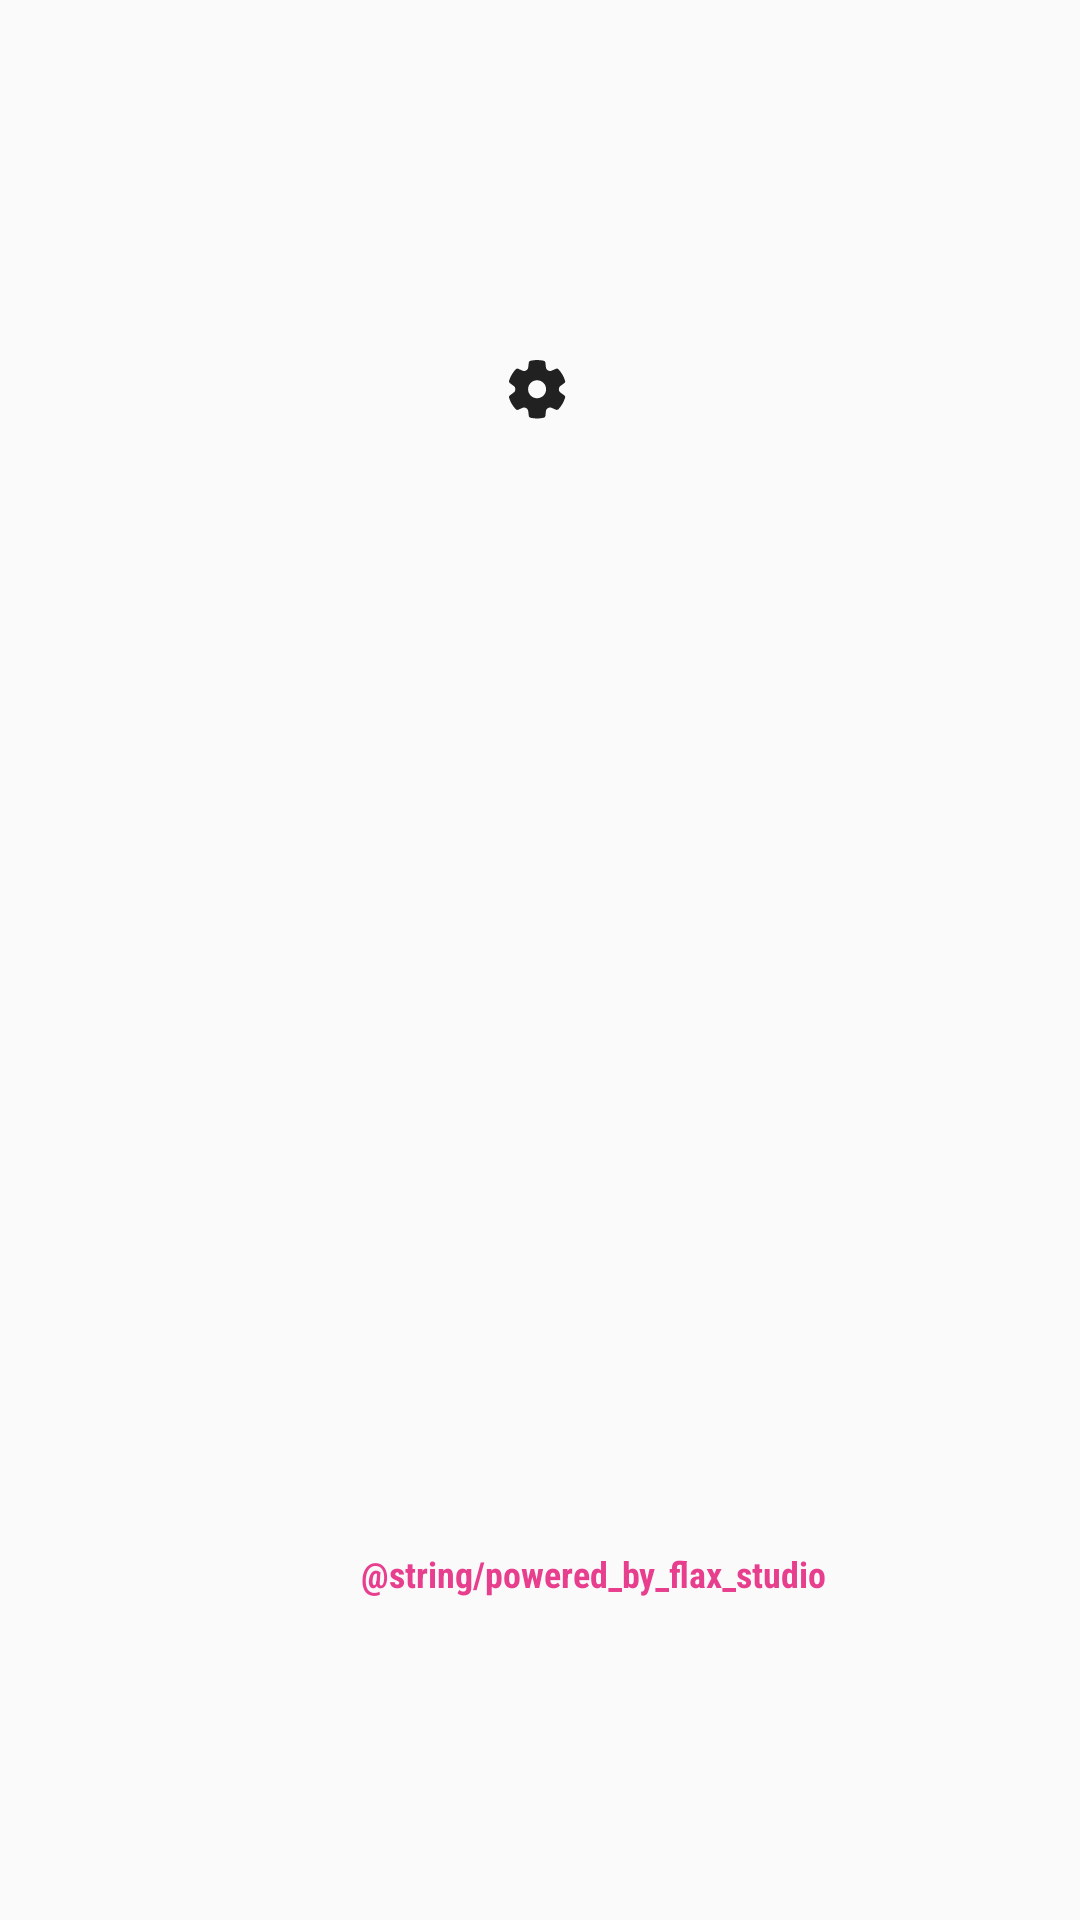

Screen size 1080w x 1920h. Icon name, then its center in pixels as (x,y):
Settings: (537,389)
